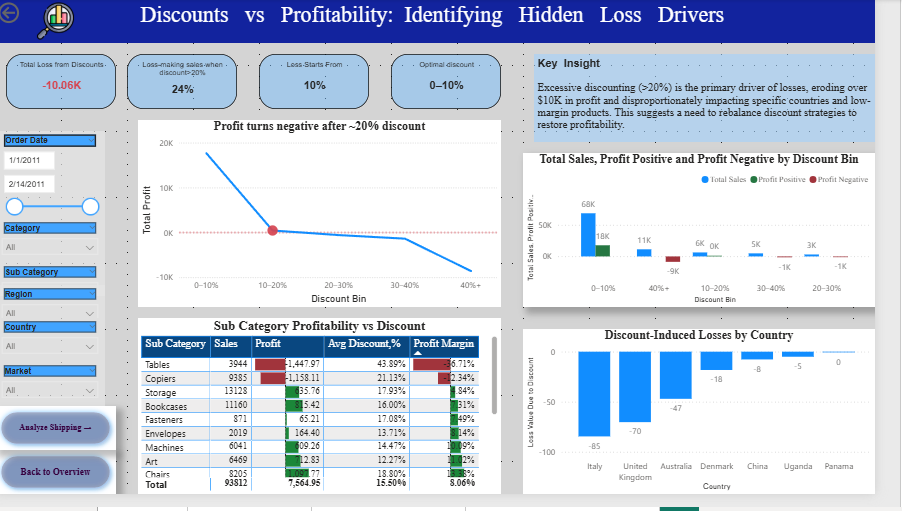

The page's visual inventory and layout, read from the dashboard file:
{"tool":"powerbi","page":{"name":"Discount/profit","canvas":[1280,720],"ordinal":1},"visuals":[{"type":"image","box":[0,0,171.5,105.7],"z":0},{"type":"textbox","box":[0,0,1280,64],"z":1000},{"type":"card","title":"Loss-making sales when discount>20%","fields":{"Values":["DATASET.High Risk Shate"]},"box":[192,80,160,80],"z":2000},{"type":"slicer","fields":{"Values":["DATASET.order_date"]},"box":[0,192,160,128],"z":3000},{"type":"slicer","fields":{"Values":["DATASET.country"]},"box":[0,464,160,64],"z":4000},{"type":"slicer","fields":{"Values":["DATASET.sub_category"]},"box":[0,384,160,48],"z":5000},{"type":"card","title":"Total Loss from Discounts","fields":{"Values":["DATASET.Total Loss Due to Discount"]},"box":[16,80,160,80],"z":6000},{"type":"card","title":"Loss Starts From","fields":{"Values":["DATASET.Min Loss Discount"]},"box":[384,80,160,80],"z":7000},{"type":"card","title":"Optimal discount","fields":{"Values":["DATASET.Optimal Discount Bin"]},"box":[576,80,160,80],"z":8000},{"type":"actionButton","box":[0,0,100,40],"z":9000},{"type":"lineChart","title":"Profit turns negative after ~20% discount","fields":{"Category":["DATASET.Discount Bin"],"Y":["Sum(DATASET.profit)"]},"box":[208,176,528,272],"z":10000},{"type":"textbox","box":[784,80,496,128],"z":11000},{"type":"image","box":[16,0,144,64],"z":12000},{"type":"pivotTable","title":"Sub Category Profitability vs Discount","fields":{"Rows":["DATASET.sub_category"],"Values":["Sum(DATASET.sales)","Sum(DATASET.profit)","DATASET.Avg Discount","DATASET.Profit Margin"]},"box":[208,464,528,256],"z":13000},{"type":"clusteredColumnChart","fields":{"Category":["DATASET.Discount Bin"],"Y":["Sum(DATASET.sales)","DATASET.Profit Positive","DATASET.Profit Negative"]},"box":[768,224,512,224],"z":14000},{"type":"slicer","fields":{"Values":["DATASET.category"]},"box":[0,320,160,64],"z":15000},{"type":"slicer","fields":{"Values":["DATASET.region"]},"box":[0,416,160,48],"z":16000},{"type":"slicer","fields":{"Values":["DATASET.market"]},"box":[0,528,160,64],"z":17000},{"type":"clusteredColumnChart","title":"Discount-Induced Losses by Country","fields":{"Y":["DATASET.Loss Value Due to Discount"],"Category":["DATASET.country"]},"box":[768,480,512,240],"z":18000},{"type":"actionButton","box":[0,656,160,64],"z":19000}]}

Visuals, with their boxes in screenshot pixels (x1, y1, x2, y2), scaled from the page's 1280x720 canvas onto the 902x511 screenshot:
image: 0 0 121 75
textbox: 0 0 901 45
"Loss-making sales when discount>20%" card: 135 57 248 114
slicer - DATASET.order_date: 0 136 113 227
slicer - DATASET.country: 0 329 113 375
slicer - DATASET.sub_category: 0 273 113 307
"Total Loss from Discounts" card: 11 57 124 114
"Loss Starts From" card: 271 57 383 114
"Optimal discount" card: 406 57 519 114
actionButton: 0 0 70 28
"Profit turns negative after ~20% discount" lineChart: 147 125 519 318
textbox: 552 57 901 148
image: 11 0 113 45
"Sub Category Profitability vs Discount" pivotTable: 147 329 519 510
clusteredColumnChart - DATASET.Discount Bin x Sum(DATASET.sales): 541 159 901 318
slicer - DATASET.category: 0 227 113 273
slicer - DATASET.region: 0 295 113 329
slicer - DATASET.market: 0 375 113 420
"Discount-Induced Losses by Country" clusteredColumnChart: 541 341 901 510
actionButton: 0 466 113 510
